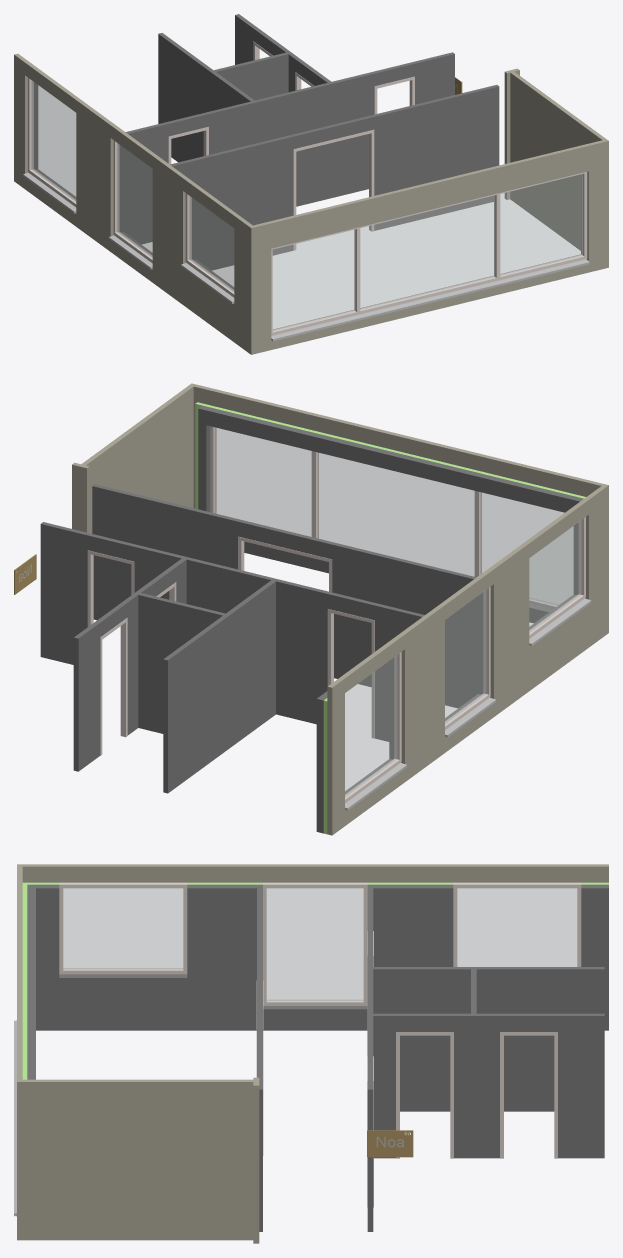
The picture shows the model from 3 angles, top to bottom: view 1: azimuth 30°, elevation 25°; view 2: azimuth 150°, elevation 25°; view 3: azimuth 270°, elevation 25°; orthographic projection. The views are drawn at different scales.
Parts seen in each view (by area): view 1: Walls, System Panel, Rectangular Mullion, NLRS_41_GM_WPB_waterslag RD50-90x160_vebo_ISR; view 2: Walls, System Panel, Rectangular Mullion, NLRS_41_GM_WPB_waterslag RD50-90x160_vebo_ISR; view 3: Walls, System Panel, Rectangular Mullion, Walls.001, NLRS_41_GM_WPB_waterslag RD50-90x160_vebo_ISR.
Part boxes in pixels (left/top/right/bottom): Walls: left=14, top=14, right=608, bottom=354; System Panel: left=31, top=81, right=582, bottom=330; Rectangular Mullion: left=28, top=41, right=587, bottom=335; NLRS_41_GM_WPB_waterslag RD50-90x160_vebo_ISR: left=23, top=172, right=589, bottom=341; Walls: left=40, top=383, right=608, bottom=835; System Panel: left=215, top=427, right=581, bottom=797; Rectangular Mullion: left=87, top=426, right=585, bottom=802; NLRS_41_GM_WPB_waterslag RD50-90x160_vebo_ISR: left=345, top=598, right=591, bottom=810; Walls: left=17, top=864, right=608, bottom=1243; System Panel: left=63, top=888, right=576, bottom=1000; Rectangular Mullion: left=59, top=882, right=581, bottom=1207; Walls.001: left=367, top=1130, right=413, bottom=1157; NLRS_41_GM_WPB_waterslag RD50-90x160_vebo_ISR: left=14, top=1020, right=16, bottom=1216.
Bounding box in the file's own units: 9.05 × 3 × 10.23.
